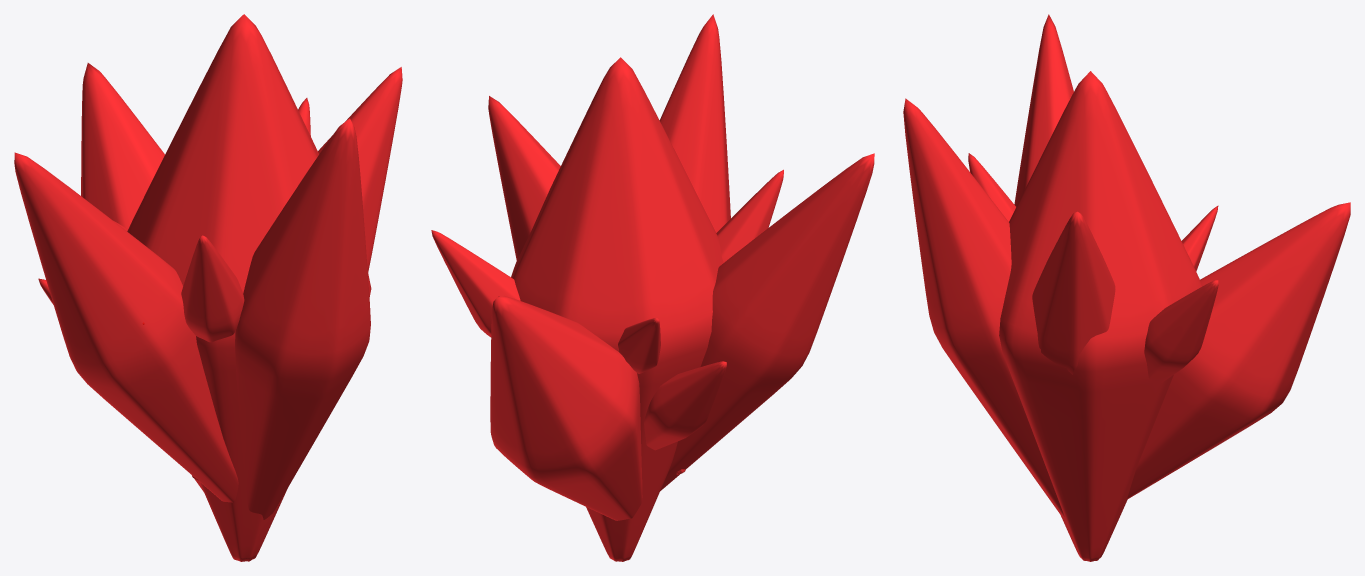
Rendered from crytales fuego.fbx.
3 renders of one model, left to right at view 1: azimuth 30°, elevation 25°; view 2: azimuth 150°, elevation 25°; view 3: azimuth 270°, elevation 25°, orthographic. The views are drawn at different scales.
Parts seen in each view (by area): view 1: crystal-outside.002, crystal-outside, crystal-outside.005, crystal-outside.003, crystal-outside.004, crystal-outside.006; view 2: crystal-outside, crystal-outside.003, crystal-outside.005, crystal-outside.002, crystal-outside.004, crystal-outside.008, crystal-outside.007, crystal-outside.006, crystal-outside.009; view 3: crystal-outside, crystal-outside.003, crystal-outside.002, crystal-outside.004, crystal-outside.005, crystal-outside.007, crystal-outside.006, crystal-outside.009.
Boxes of the visible parts, <box> form: crystal-outside.002: <box>235,118,370,519</box>; crystal-outside: <box>127,14,371,561</box>; crystal-outside.005: <box>14,152,238,502</box>; crystal-outside.003: <box>81,63,203,491</box>; crystal-outside.004: <box>192,67,402,480</box>; crystal-outside.006: <box>181,235,244,342</box>; crystal-outside: <box>511,57,723,561</box>; crystal-outside.003: <box>490,296,642,520</box>; crystal-outside.005: <box>660,153,874,490</box>; crystal-outside.002: <box>659,14,730,232</box>; crystal-outside.004: <box>488,96,685,474</box>; crystal-outside.008: <box>644,361,726,450</box>; crystal-outside.007: <box>431,230,520,337</box>; crystal-outside.006: <box>716,169,783,262</box>; crystal-outside.009: <box>618,318,660,373</box>; crystal-outside: <box>999,71,1202,561</box>; crystal-outside.003: <box>1127,202,1350,498</box>; crystal-outside.002: <box>903,98,1064,517</box>; crystal-outside.004: <box>1032,211,1115,374</box>; crystal-outside.005: <box>1014,14,1073,206</box>; crystal-outside.007: <box>1144,280,1218,382</box>; crystal-outside.006: <box>968,153,1015,221</box>; crystal-outside.009: <box>1181,205,1218,271</box>.
Size of the model in its own units: 615 by 793 by 660.
